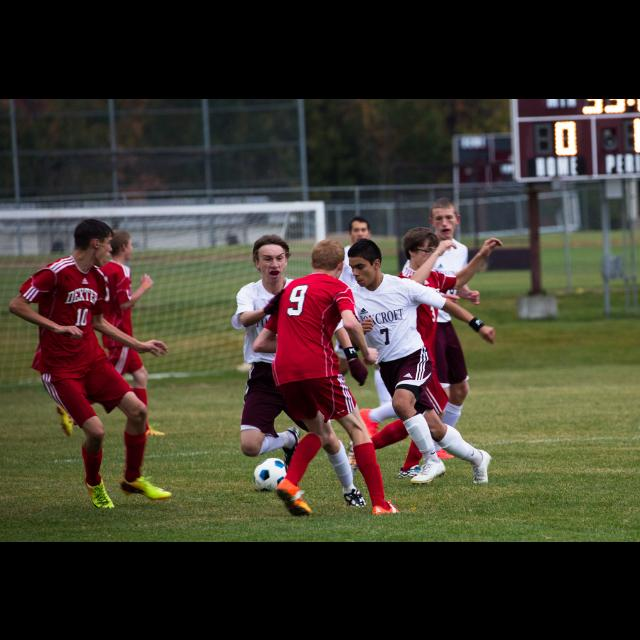Football: (250, 460, 286, 492)
